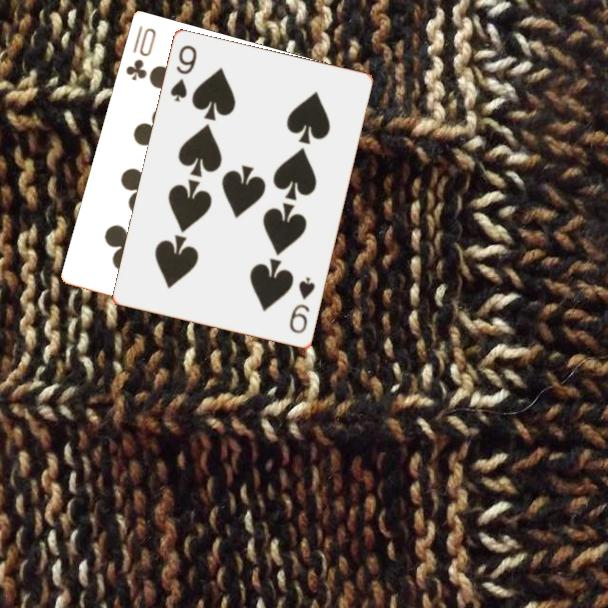c10: (123, 22, 159, 84)
s09: (167, 42, 200, 105), (286, 274, 318, 337)
